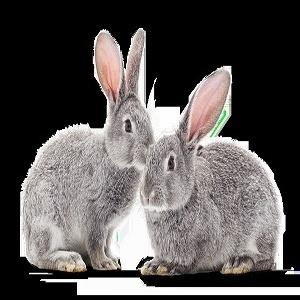rabbit: (20, 28, 282, 275)
